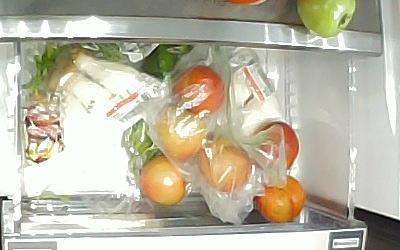prune: (138, 153, 186, 206), (254, 173, 304, 223)
prune_vinyl: (152, 102, 207, 160), (197, 137, 252, 192), (174, 64, 225, 114), (250, 119, 299, 170)
